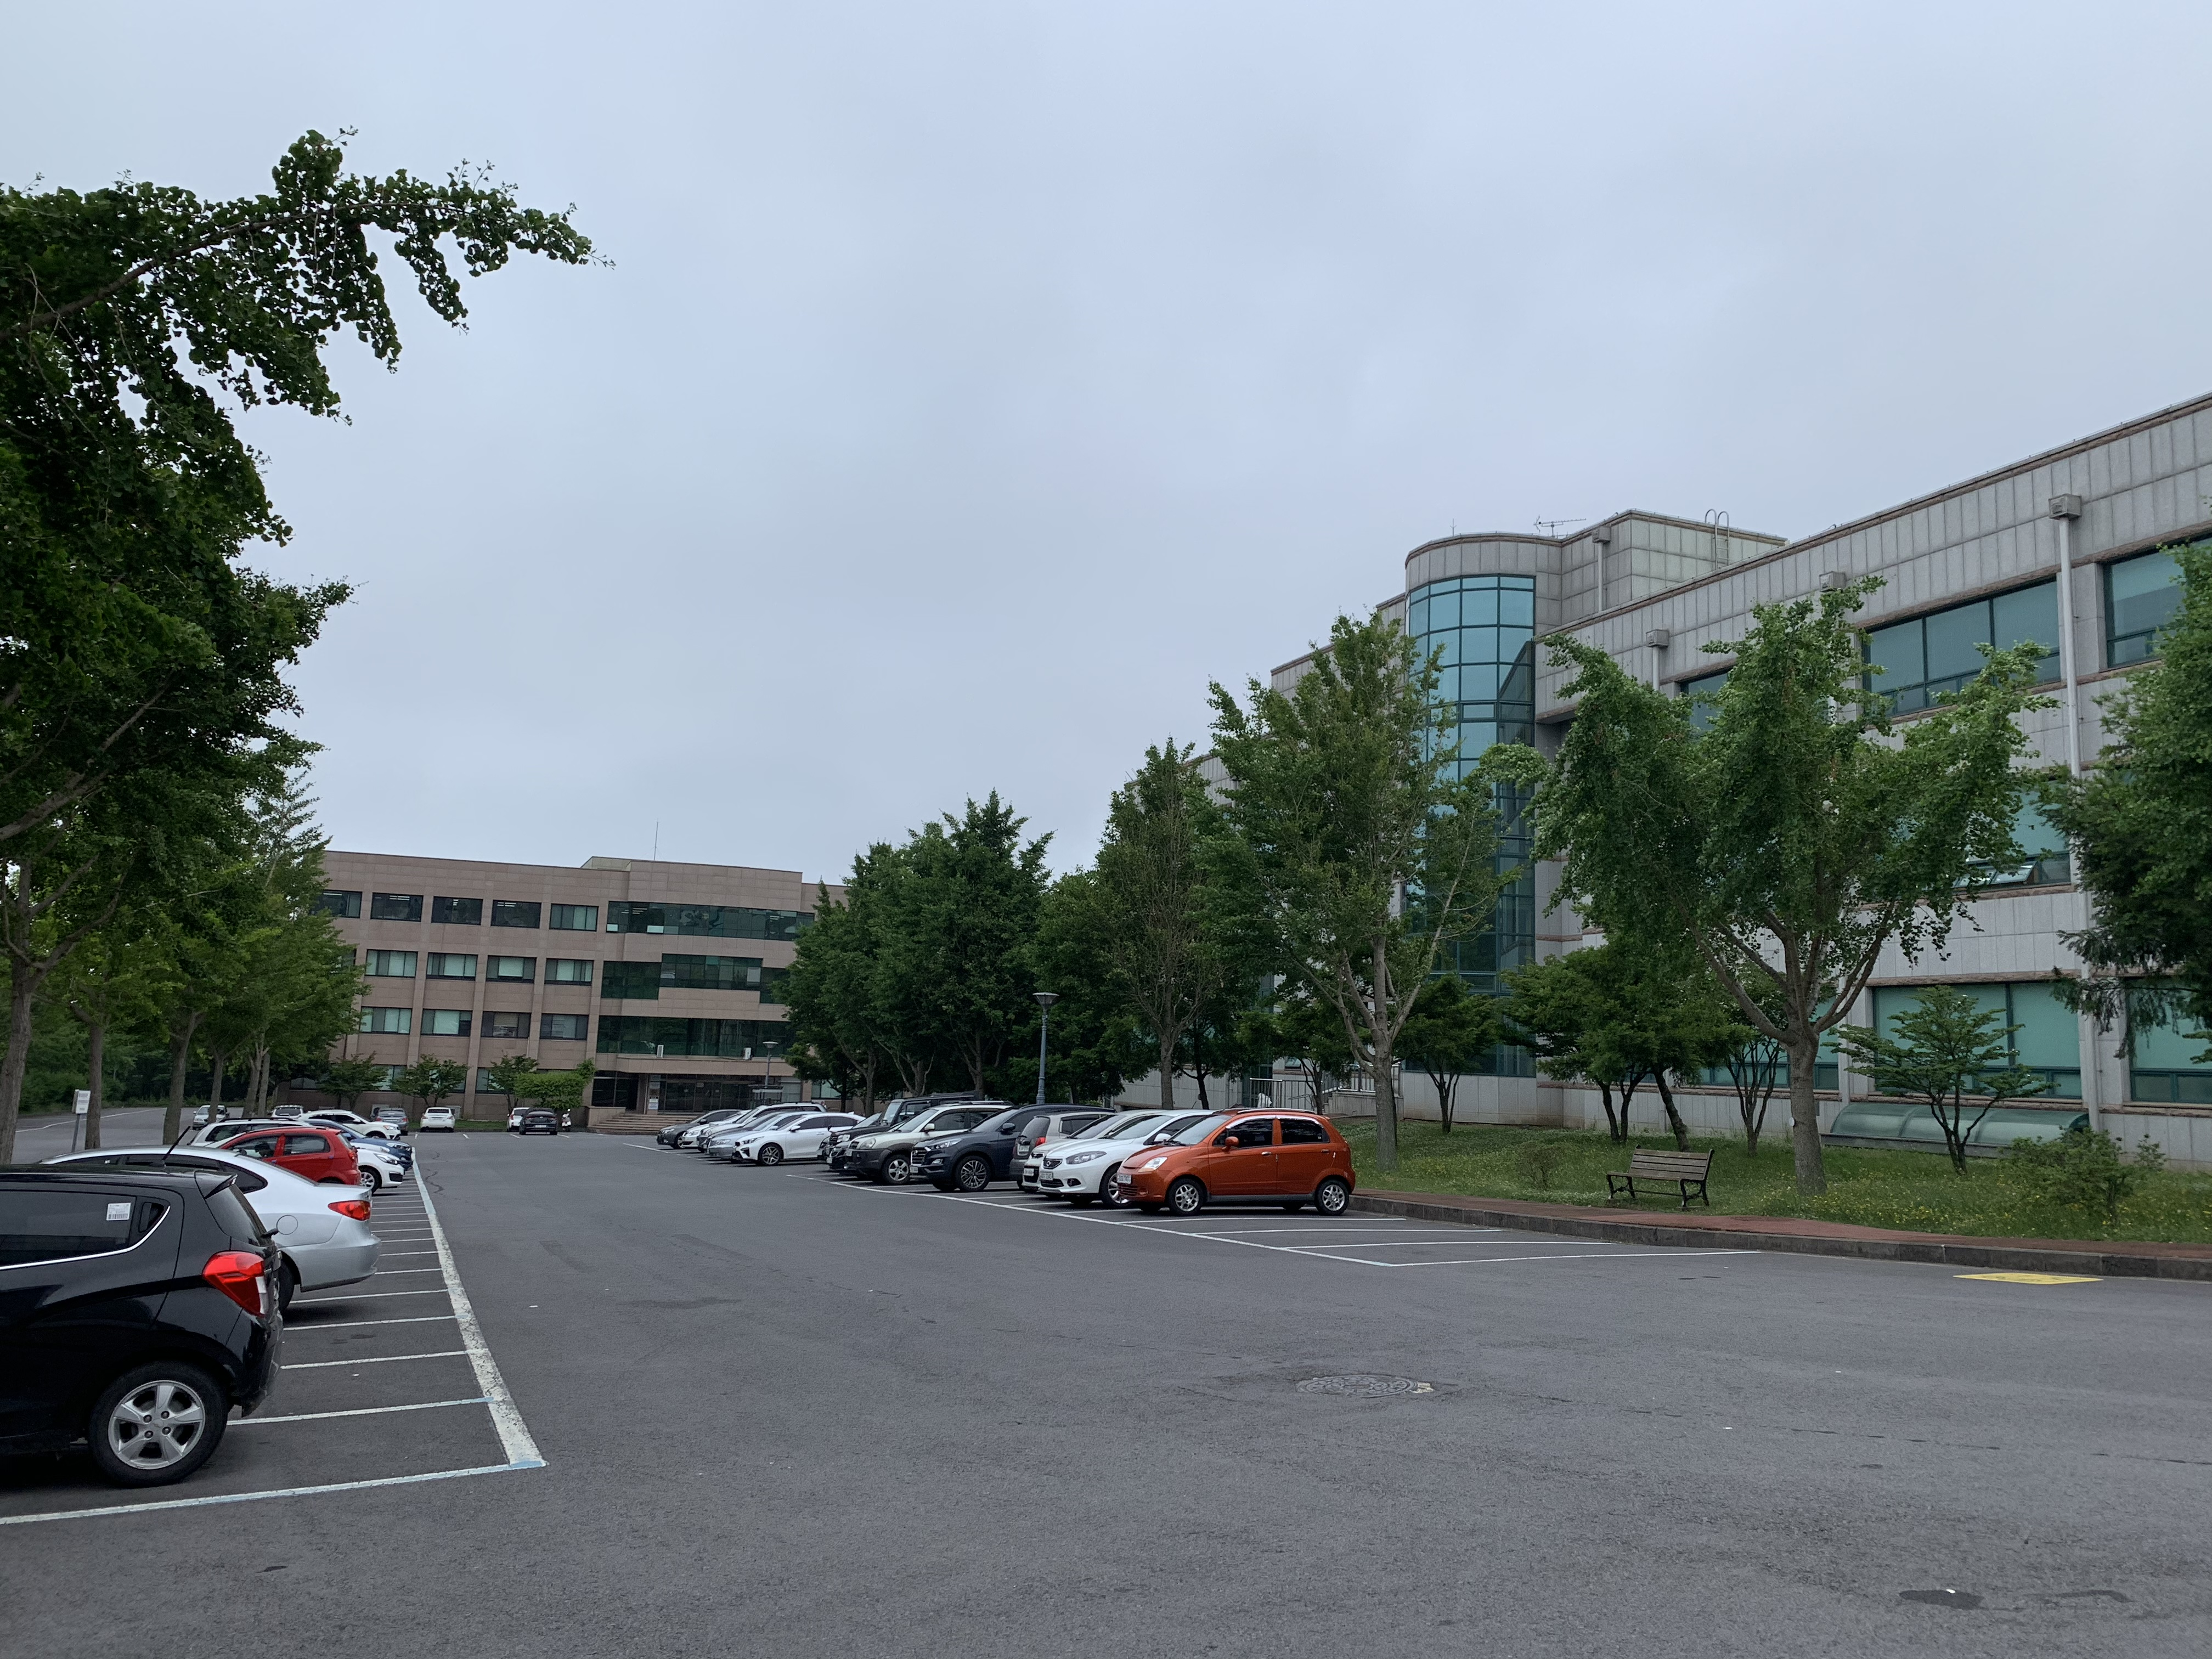Joint Experimental Labs: (319, 843, 867, 1121)
Second Library: (1312, 507, 2212, 1157)
